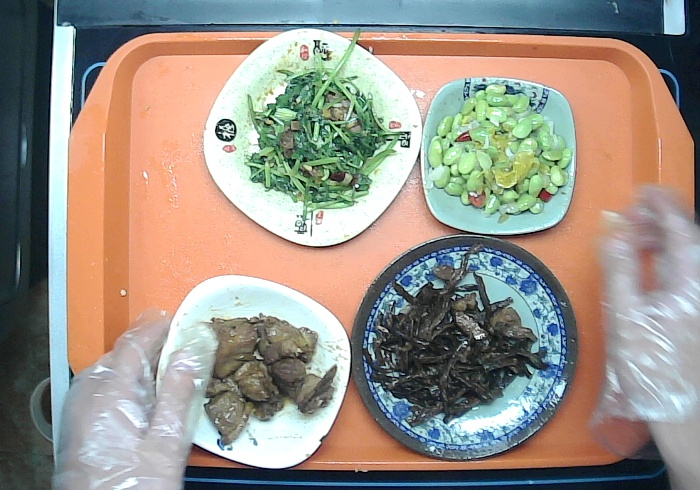NLDX-Bai_Se_Xiao_Fang_Die: (150, 269, 355, 472)
NLDX-Fu_Zi_Fang_Die: (199, 23, 425, 254)
NLDX-Qing_Hua_Xiao_Fang_Die: (415, 71, 583, 241)
NLDX-Qing_Hua_Yuan_Die: (345, 231, 581, 469)
